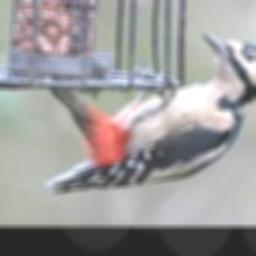Woodpecker: (46, 32, 256, 193)
